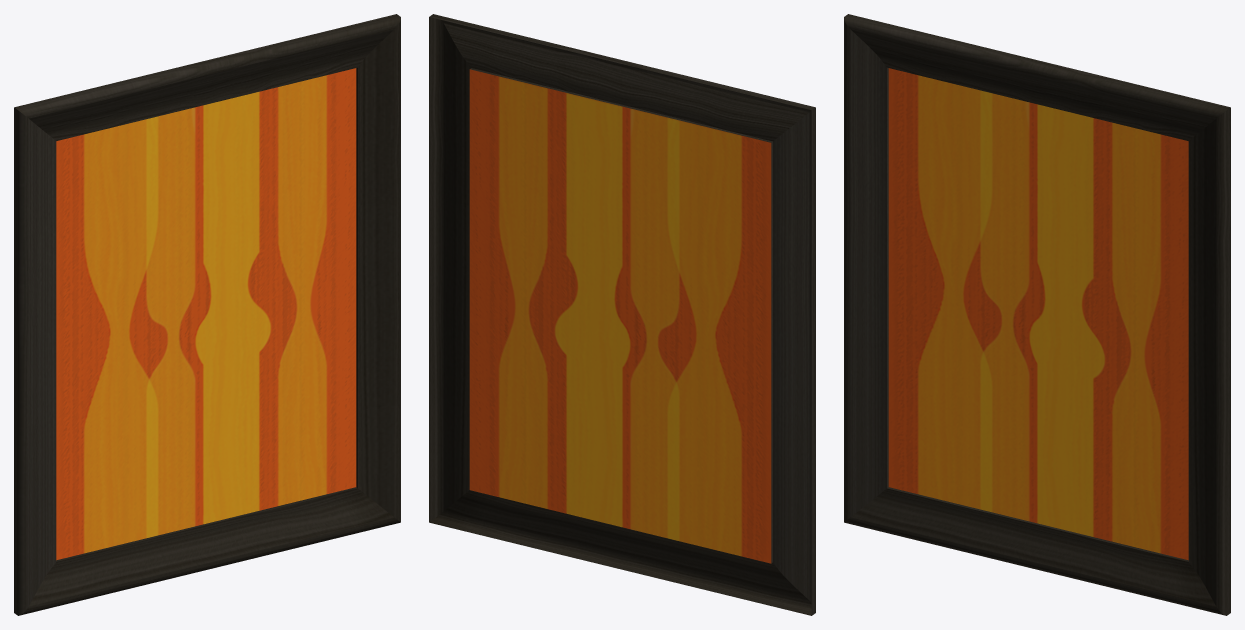
The model's file is ArtP-RtMdF.fbx.
The picture shows the model from 3 angles, left to right: view 1: azimuth 30°, elevation 25°; view 2: azimuth 150°, elevation 25°; view 3: azimuth 330°, elevation 25°; orthographic projection.
Visible parts, largest first — view 1: CanvasMdF01, FrameMd; view 2: CanvasMdF01, FrameMd; view 3: CanvasMdF01, FrameMd.
Part boxes in pixels (x1,y1,x2,y2): CanvasMdF01: (56, 68, 356, 560); FrameMd: (14, 14, 400, 615); CanvasMdF01: (469, 69, 771, 563); FrameMd: (429, 14, 815, 615); CanvasMdF01: (888, 68, 1188, 560); FrameMd: (844, 14, 1230, 615).
Size of the model in its own units: 96.67 by 122 by 2.76.
